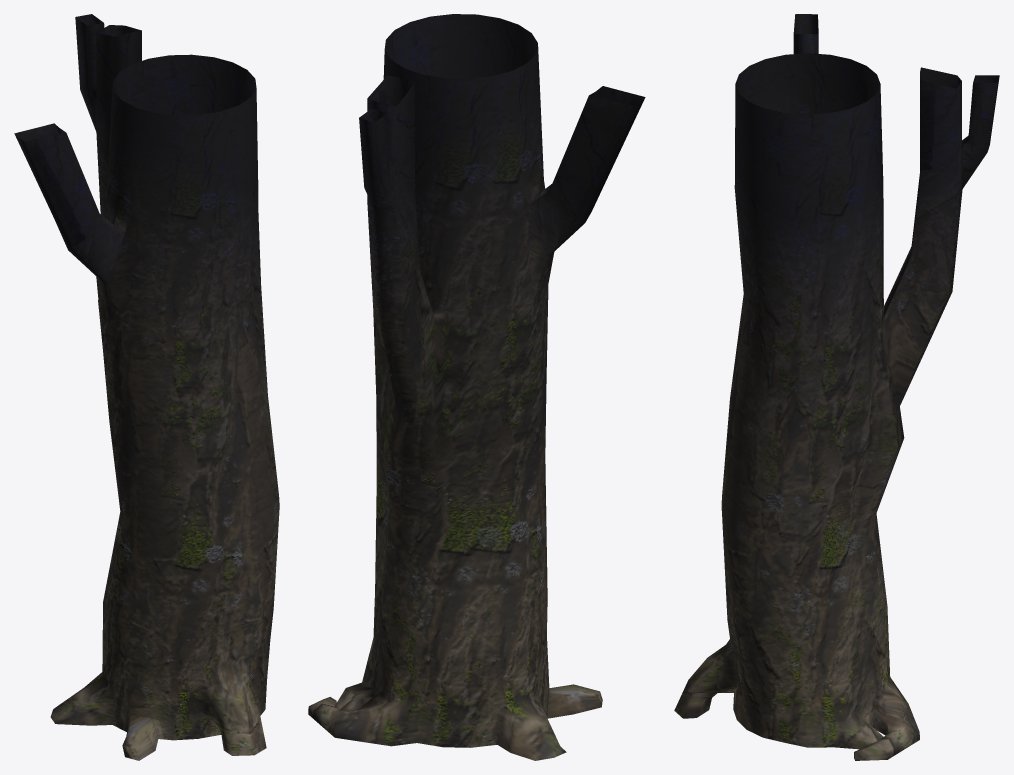
Rendered from BigTree1.fbx.
The picture shows the model from 3 angles, left to right: view 1: azimuth 30°, elevation 25°; view 2: azimuth 150°, elevation 25°; view 3: azimuth 270°, elevation 25°; orthographic projection. The views are drawn at different scales.
Parts seen in each view (by area): view 1: BigTree; view 2: BigTree; view 3: BigTree.
Boxes of the visible parts, box(x1,y1,x2,y2) form: BigTree: box(14, 14, 279, 760); BigTree: box(308, 14, 645, 760); BigTree: box(674, 14, 999, 760).
Size of the model in its own units: 5.1 by 11.34 by 5.25.
2 materials, 2 textured.
